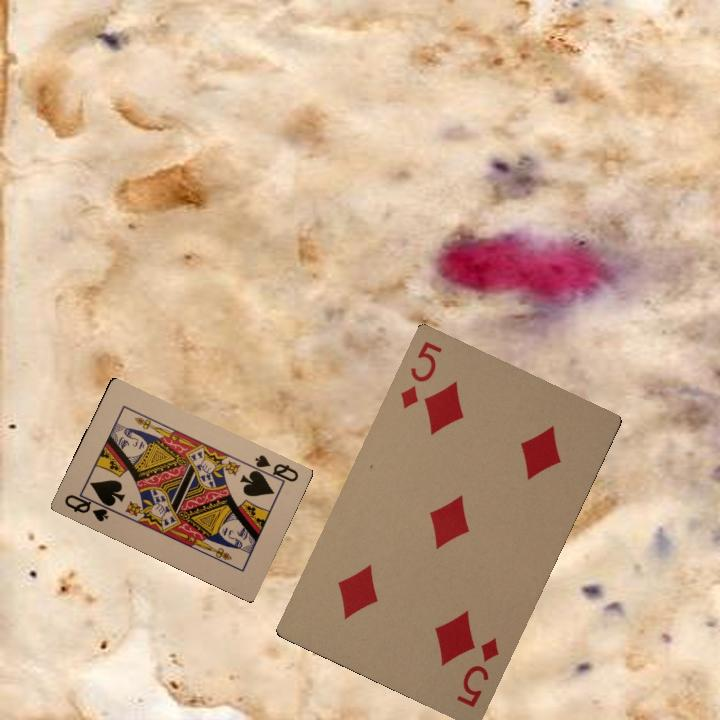5d: (452, 634, 502, 710), (396, 337, 445, 412)
Qs: (248, 450, 301, 488), (60, 490, 115, 524)
